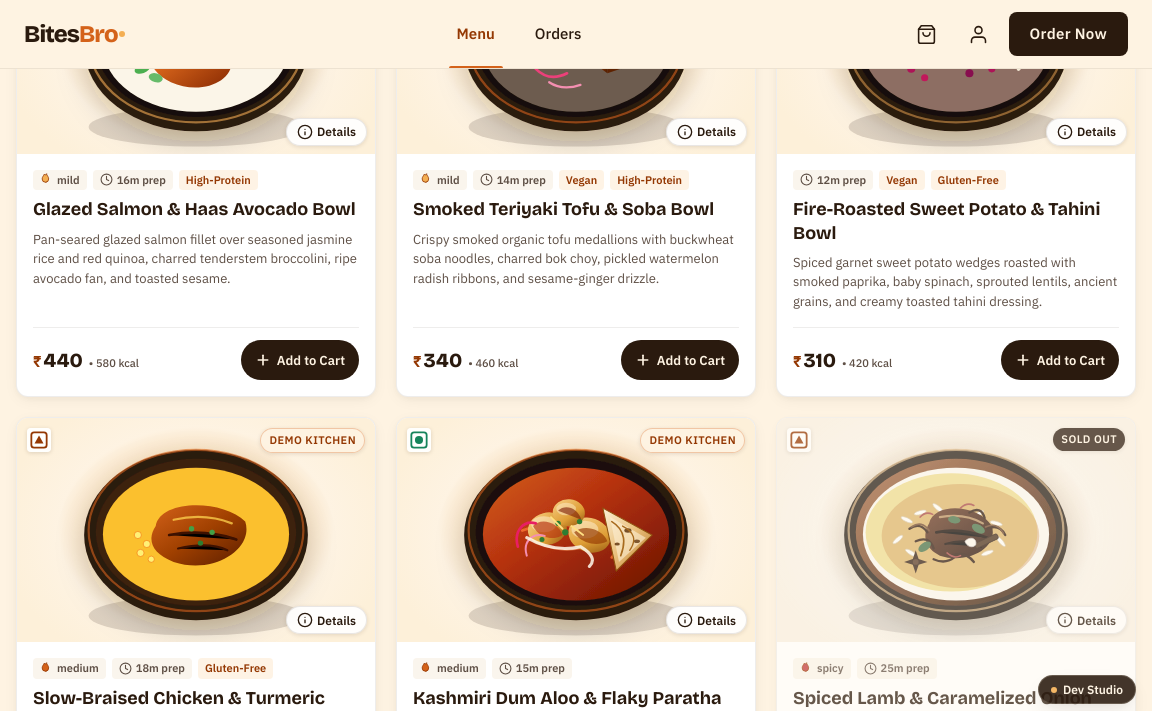
Test: App Shell Integration › updates customer navbar cart count when items are added from menu
The width and height of the screenshot is (1152, 711).
(page scrolled)
Expected: the link named "View cart" is shown, [916,24,937,44]
Click the button "Add to Cart" in the row of "580" at (300, 360), box [241,340,359,380]
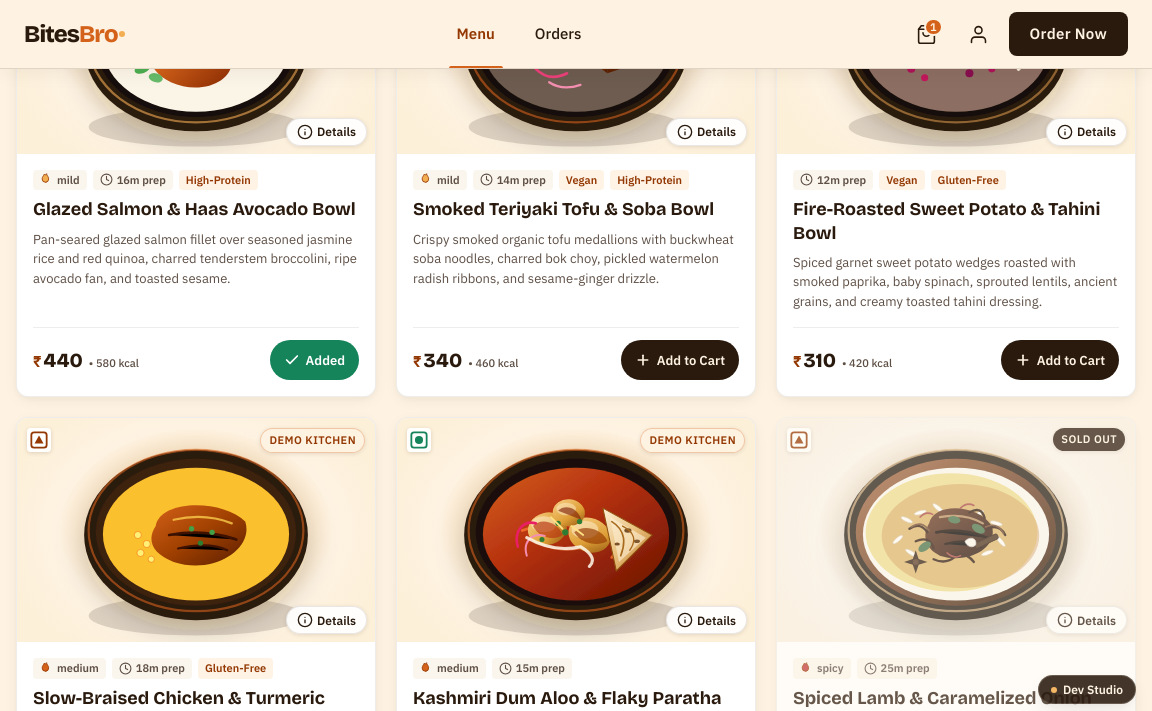
Expected: the text named "1 items in cart" is shown, [924,18,943,36]
Expected: the text named "1 items in cart" reads "1", [930,20,937,34]
